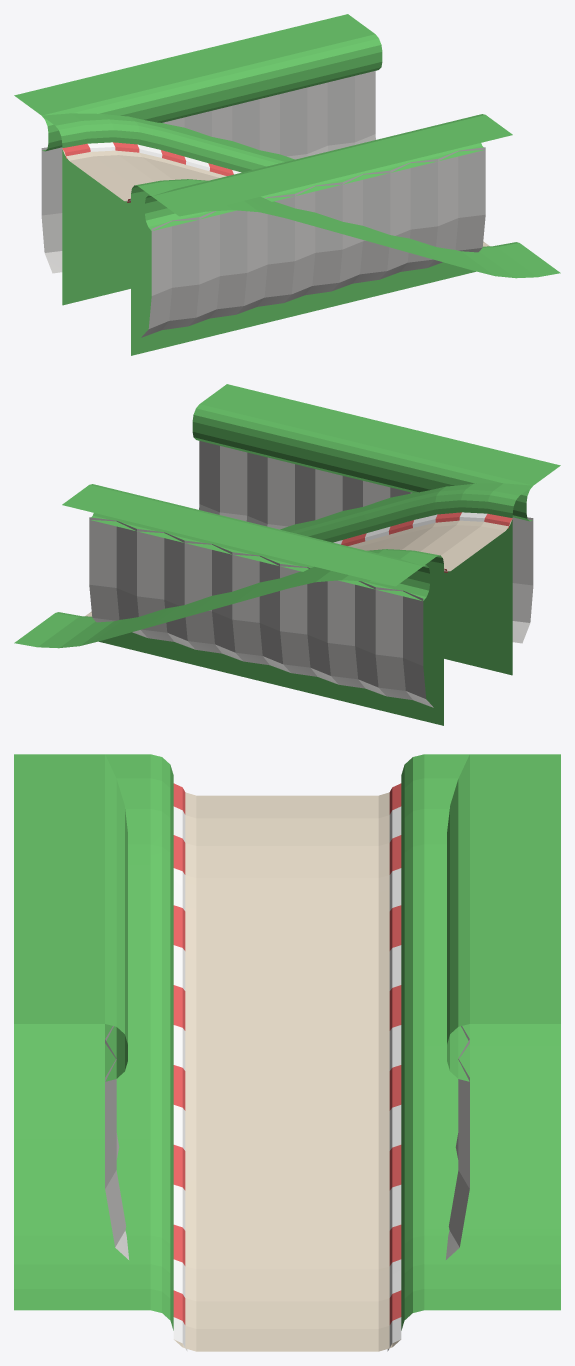
3 renders of one model, top to bottom at view 1: azimuth 30°, elevation 25°; view 2: azimuth 150°, elevation 25°; view 3: azimuth 270°, elevation 25°, orthographic. The views are drawn at different scales.
Visible parts, largest first — view 1: track_cliff_incline_striped_3_tall_double-col; view 2: track_cliff_incline_striped_3_tall_double-col; view 3: track_cliff_incline_striped_3_tall_double-col.
Boxes of the visible parts, x1=… form: track_cliff_incline_striped_3_tall_double-col: x1=14, y1=14, x2=560, y2=355; track_cliff_incline_striped_3_tall_double-col: x1=14, y1=384, x2=560, y2=725; track_cliff_incline_striped_3_tall_double-col: x1=14, y1=754, x2=560, y2=1351.
Size of the model in its own units: 8 by 3.5 by 6.
